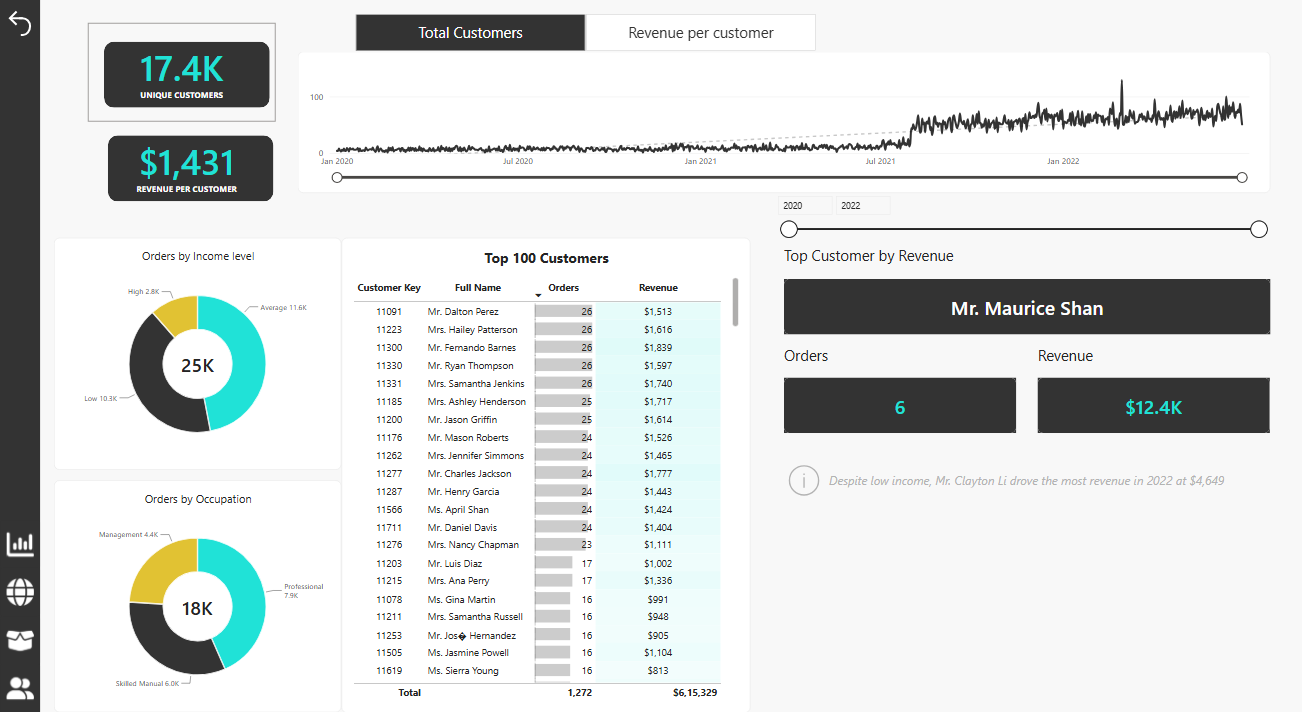

Layout of this report page (visuals, bound fields, positions):
{"tool":"powerbi","page":{"name":"Customer Detail","canvas":[1920,1080],"ordinal":3},"visuals":[{"type":"shape","box":[0,0,60,1079.9],"z":0},{"type":"actionButton","box":[2,761.4,58,70],"z":0,"group":"g1"},{"type":"shape","box":[158.3,205.1,240,96],"z":1000},{"type":"actionButton","box":[2,831.1,58,70],"z":1000,"group":"g1"},{"type":"card","fields":{"Values":["Measure Table.Revenue per customer"]},"box":[135,177.3,272,144],"z":2000},{"type":"actionButton","box":[2,900.7,58,70],"z":2000,"group":"g1"},{"type":"shape","box":[151.8,69.3,240,96],"z":3000},{"type":"actionButton","box":[2,970.4,58,70],"z":3000,"group":"g1"},{"type":"card","fields":{"Values":["Measure Table.Total Customers"]},"box":[128.3,41.5,272,144],"z":4000},{"type":"lineChart","title":"Weekly Customers","fields":{"Category":["Calendar Lookup.Date Hierarchy.Date"],"Y":["Measure Table.Total Customers"]},"box":[431.7,83.3,1408.3,205],"z":5000},{"type":"donutChart","title":"Orders by Income level","fields":{"Category":["Customer Lookup.Income Level"],"Y":["Measure Table.Total Orders"]},"box":[80,352,416,336],"z":6000},{"type":"donutChart","title":"Orders by Occupation","fields":{"Category":["Customer Lookup.Occupation"],"Y":["Measure Table.Total Orders"]},"box":[80,704,416,336],"z":7000},{"type":"tableEx","title":"Top 100 Customers","fields":{"Values":["Customer Lookup.CustomerKey","Customer Lookup.Full Name","Measure Table.Total Orders","Measure Table.Total Revenue"]},"box":[496,352,592,688],"z":8000},{"type":"cardVisual","fields":{"Data":["Measure Table.Full Name (Customer Detail)"]},"box":[1136,412,704,80],"z":9000},{"type":"cardVisual","fields":{"Data":["Measure Table.Total Orders (Customer Detail)"]},"box":[1136,556,336,80],"z":10000},{"type":"cardVisual","fields":{"Data":["Measure Table.Total Revenue (Customer Detail)"]},"box":[1504,556,336,80],"z":11000},{"type":"textbox","box":[1136,364,304,32],"z":12000},{"type":"textbox","box":[1136,508,304,32],"z":13000},{"type":"textbox","box":[1504,508,288,32],"z":14000},{"type":"slicer","fields":{"Values":["Calendar Lookup.Year"]},"box":[1120,288.3,720,91.7],"z":15000},{"type":"actionButton","box":[1135.7,670,704.3,68.6],"z":16000},{"type":"group","id":"g1","title":"Navigation Buttons","box":[2,761.4,58,279],"z":17000},{"type":"actionButton","box":[0,2,60,82],"z":18000},{"type":"slicer","fields":{"Values":["Customer Metric Selection.Customer Metric Selection"]},"box":[495,27.5,705,57.5],"z":19000}]}

Visuals, with their boxes on the page's 1920x1080 design canvas (x1, y1, x2, y2). These are canvas units, not pixel positions in the 1302x712 screenshot, which may show the page scaled, cropped or inside an application window:
shape: bbox=[0, 0, 60, 1080]
actionButton: bbox=[2, 761, 60, 831]
shape: bbox=[158, 205, 398, 301]
actionButton: bbox=[2, 831, 60, 901]
card - Measure Table.Revenue per customer: bbox=[135, 177, 407, 321]
actionButton: bbox=[2, 901, 60, 971]
shape: bbox=[152, 69, 392, 165]
actionButton: bbox=[2, 970, 60, 1040]
card - Measure Table.Total Customers: bbox=[128, 42, 400, 186]
"Weekly Customers" lineChart: bbox=[432, 83, 1840, 288]
"Orders by Income level" donutChart: bbox=[80, 352, 496, 688]
"Orders by Occupation" donutChart: bbox=[80, 704, 496, 1040]
"Top 100 Customers" tableEx: bbox=[496, 352, 1088, 1040]
cardVisual - Measure Table.Full Name (Customer Detail): bbox=[1136, 412, 1840, 492]
cardVisual - Measure Table.Total Orders (Customer Detail): bbox=[1136, 556, 1472, 636]
cardVisual - Measure Table.Total Revenue (Customer Detail): bbox=[1504, 556, 1840, 636]
textbox: bbox=[1136, 364, 1440, 396]
textbox: bbox=[1136, 508, 1440, 540]
textbox: bbox=[1504, 508, 1792, 540]
slicer - Calendar Lookup.Year: bbox=[1120, 288, 1840, 380]
actionButton: bbox=[1136, 670, 1840, 739]
"Navigation Buttons" group: bbox=[2, 761, 60, 1040]
actionButton: bbox=[0, 2, 60, 84]
slicer - Customer Metric Selection.Customer Metric Selection: bbox=[495, 28, 1200, 85]
